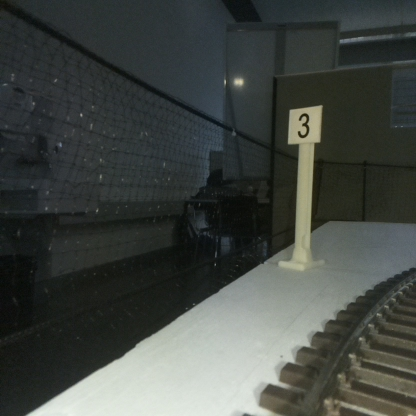white-info-3: (288, 106, 321, 266)
